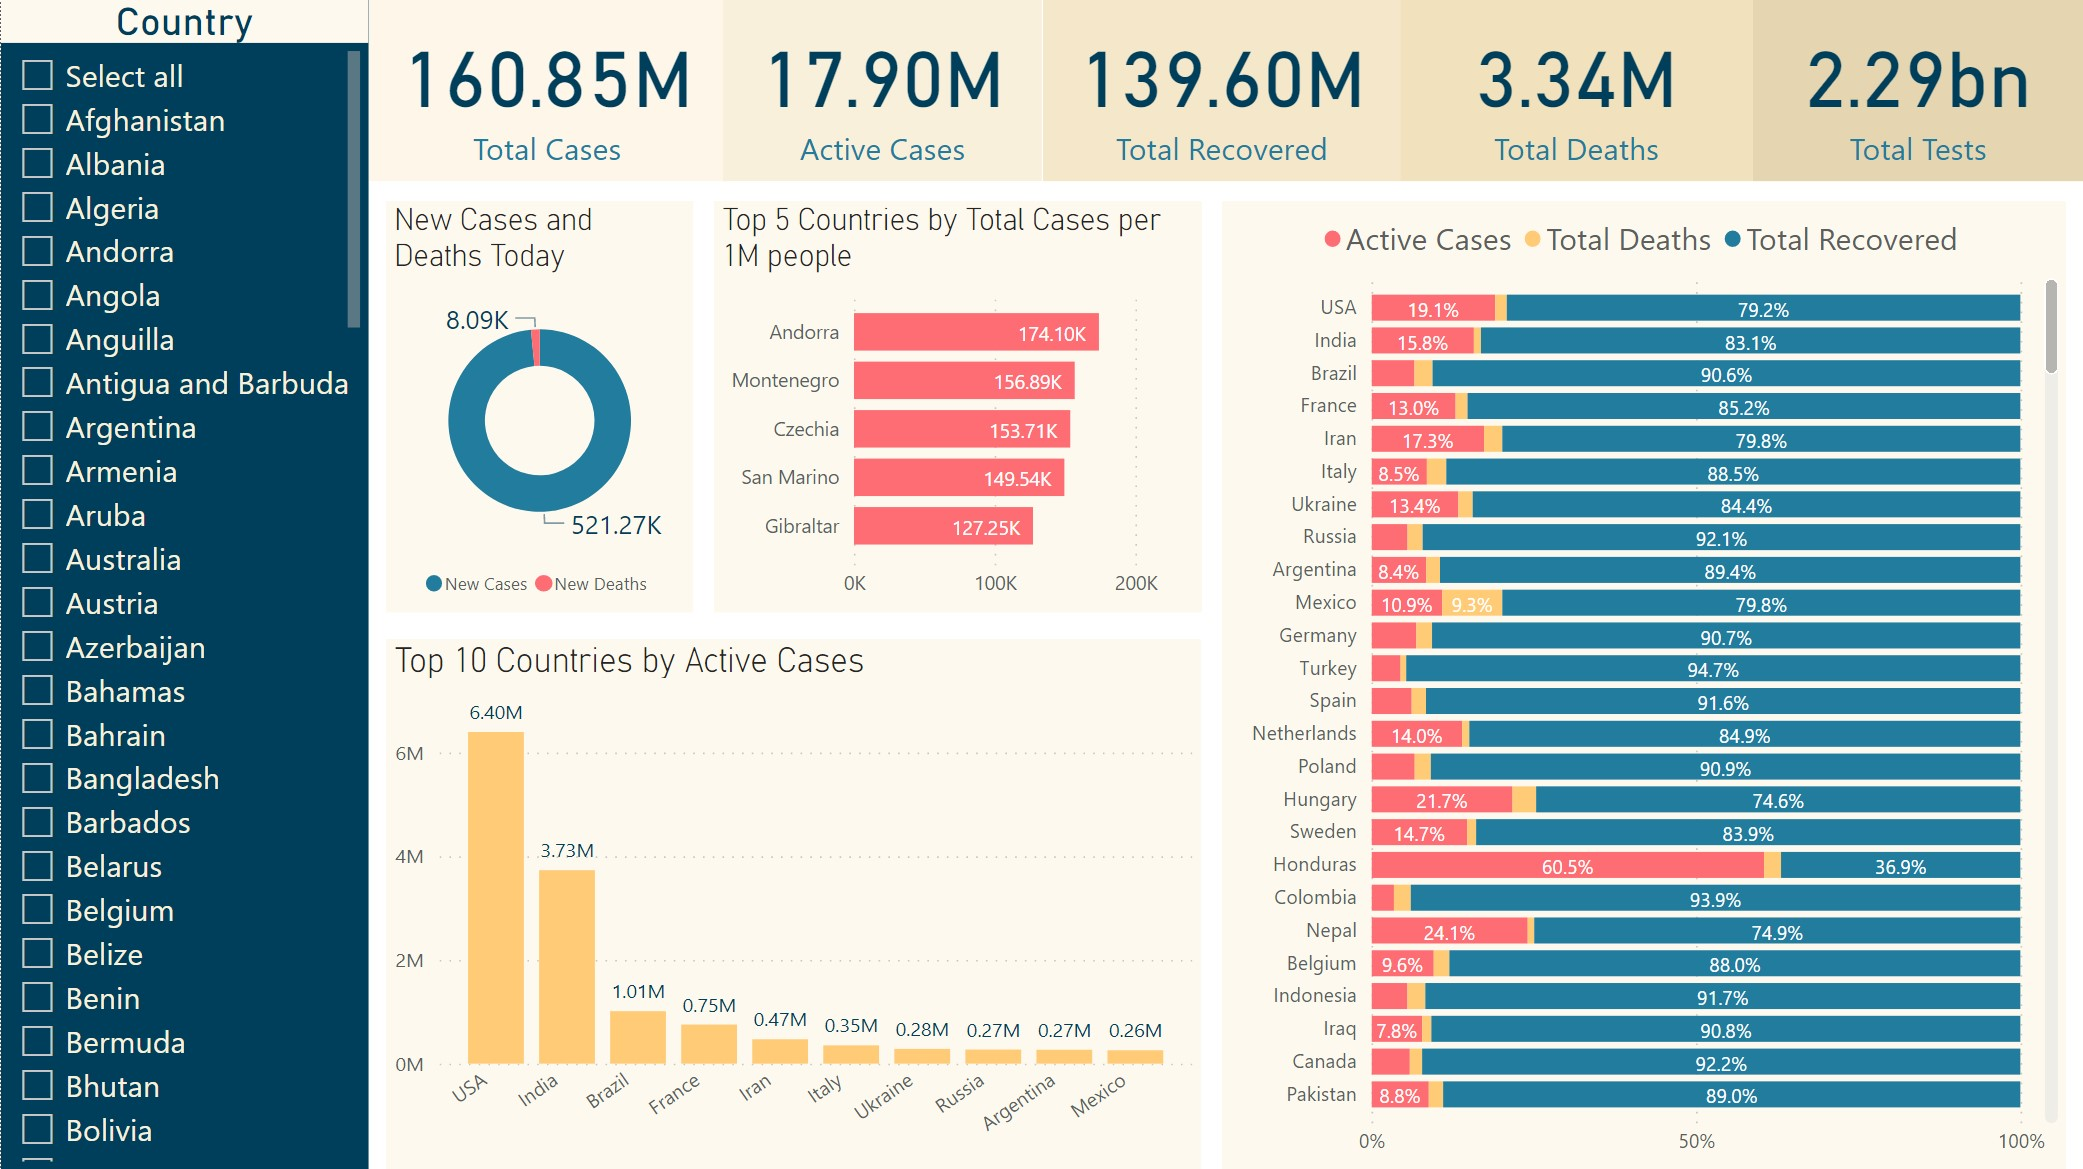

The dashboard page shown, as its layout file describes it:
{"tool":"powerbi","page":{"name":"Page 1","canvas":[1280,720],"ordinal":0},"visuals":[{"type":"slicer","title":"Country","fields":{"Values":["Table 1.Country,Other"]},"box":[0,0,226.2,719.7],"z":0},{"type":"card","title":"Total Cases","fields":{"Values":["Sum(Table 1.TotalCases)"]},"box":[226.2,0,218.6,112.1],"z":1000},{"type":"card","title":"Total Cases","fields":{"Values":["Sum(Table 1.Active Cases)"]},"box":[444.1,0,196.3,111.8],"z":2000},{"type":"card","title":"Total Cases","fields":{"Values":["Sum(Table 1.Total Deaths)"]},"box":[860,0,217.1,111.8],"z":3000},{"type":"card","title":"Total Cases","fields":{"Values":["Sum(Table 1.Total Recovered)"]},"box":[640.4,0,219.5,111.8],"z":4000},{"type":"hundredPercentStackedBarChart","fields":{"Category":["Table 1.Country,Other"],"Y":["Sum(Table 1.Active Cases)","Sum(Table 1.Total Deaths)","Sum(Table 1.Total Recovered)"]},"box":[750.6,124.3,519.5,595.7],"z":5000},{"type":"donutChart","title":"New Cases and Deaths Today","fields":{"Y":["Sum(Table 1.New Cases)","Sum(Table 1.New Deaths)"]},"box":[236.9,124.3,188.9,252.7],"z":6000},{"type":"columnChart","title":"Top 10 Countries by Active Cases","fields":{"Category":["Table 1.Country,Other"],"Y":["Sum(Table 1.Active Cases)"]},"box":[236.9,393.5,501.2,326.4],"z":7000},{"type":"clusteredBarChart","title":"Top 5 Countries by Total Cases per 1M people","fields":{"Category":["Table 1.Country,Other"],"Y":["Sum(Table 1.Total Cases/1M pop)"]},"box":[438.3,124.3,299.9,252.7],"z":8000},{"type":"card","title":"Total Cases","fields":{"Values":["Sum(Table 1.Total Tests)"]},"box":[1077,0,203,111.8],"z":9000}]}

Visuals, with their boxes in screenshot pixels (x1, y1, x2, y2), scaled from the page's 1280x720 canvas onto the 2083x1169 screenshot:
"Country" slicer: 0 0 368 1168
"Total Cases" card: 368 0 724 182
"Total Cases" card: 723 0 1042 182
"Total Cases" card: 1400 0 1753 182
"Total Cases" card: 1042 0 1399 182
hundredPercentStackedBarChart - Table 1.Country,Other x Sum(Table 1.Active Cases): 1221 202 2067 1168
"New Cases and Deaths Today" donutChart: 386 202 693 612
"Top 10 Countries by Active Cases" columnChart: 386 639 1201 1168
"Top 5 Countries by Total Cases per 1M people" clusteredBarChart: 713 202 1201 612
"Total Cases" card: 1753 0 2082 182
